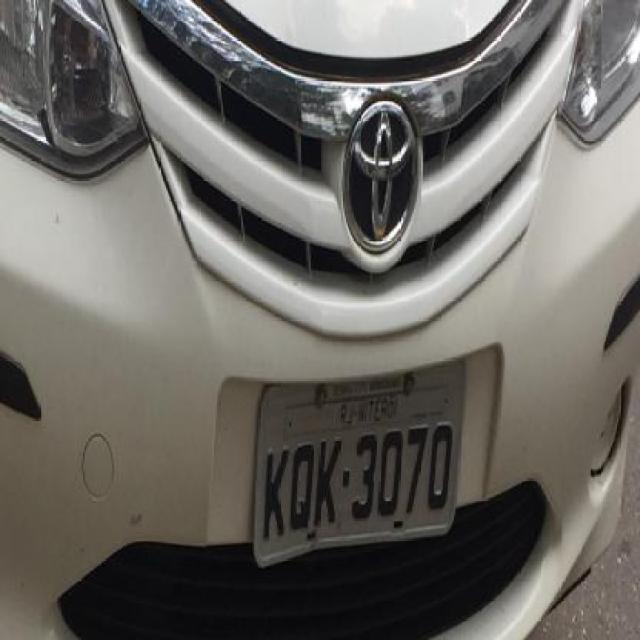old_plate: (243, 351, 472, 574)
